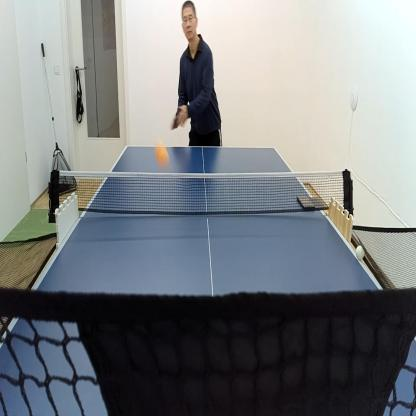Ball: (154, 141, 171, 170), (354, 243, 366, 262)
